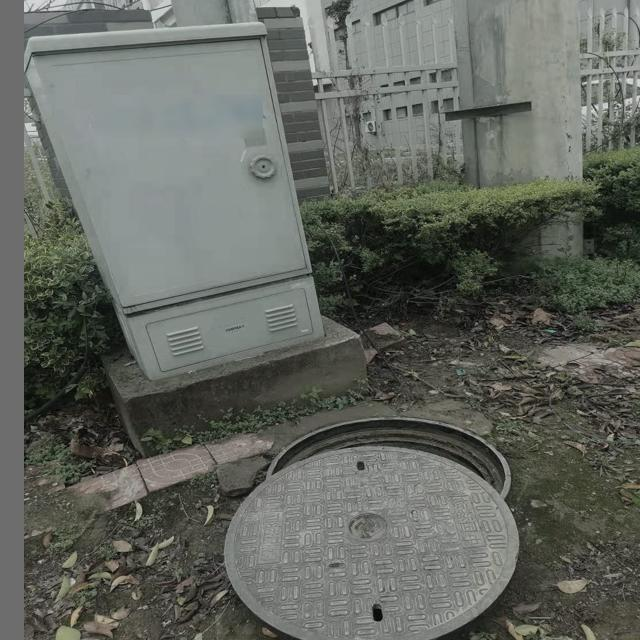uncovered: (225, 418, 518, 640)
